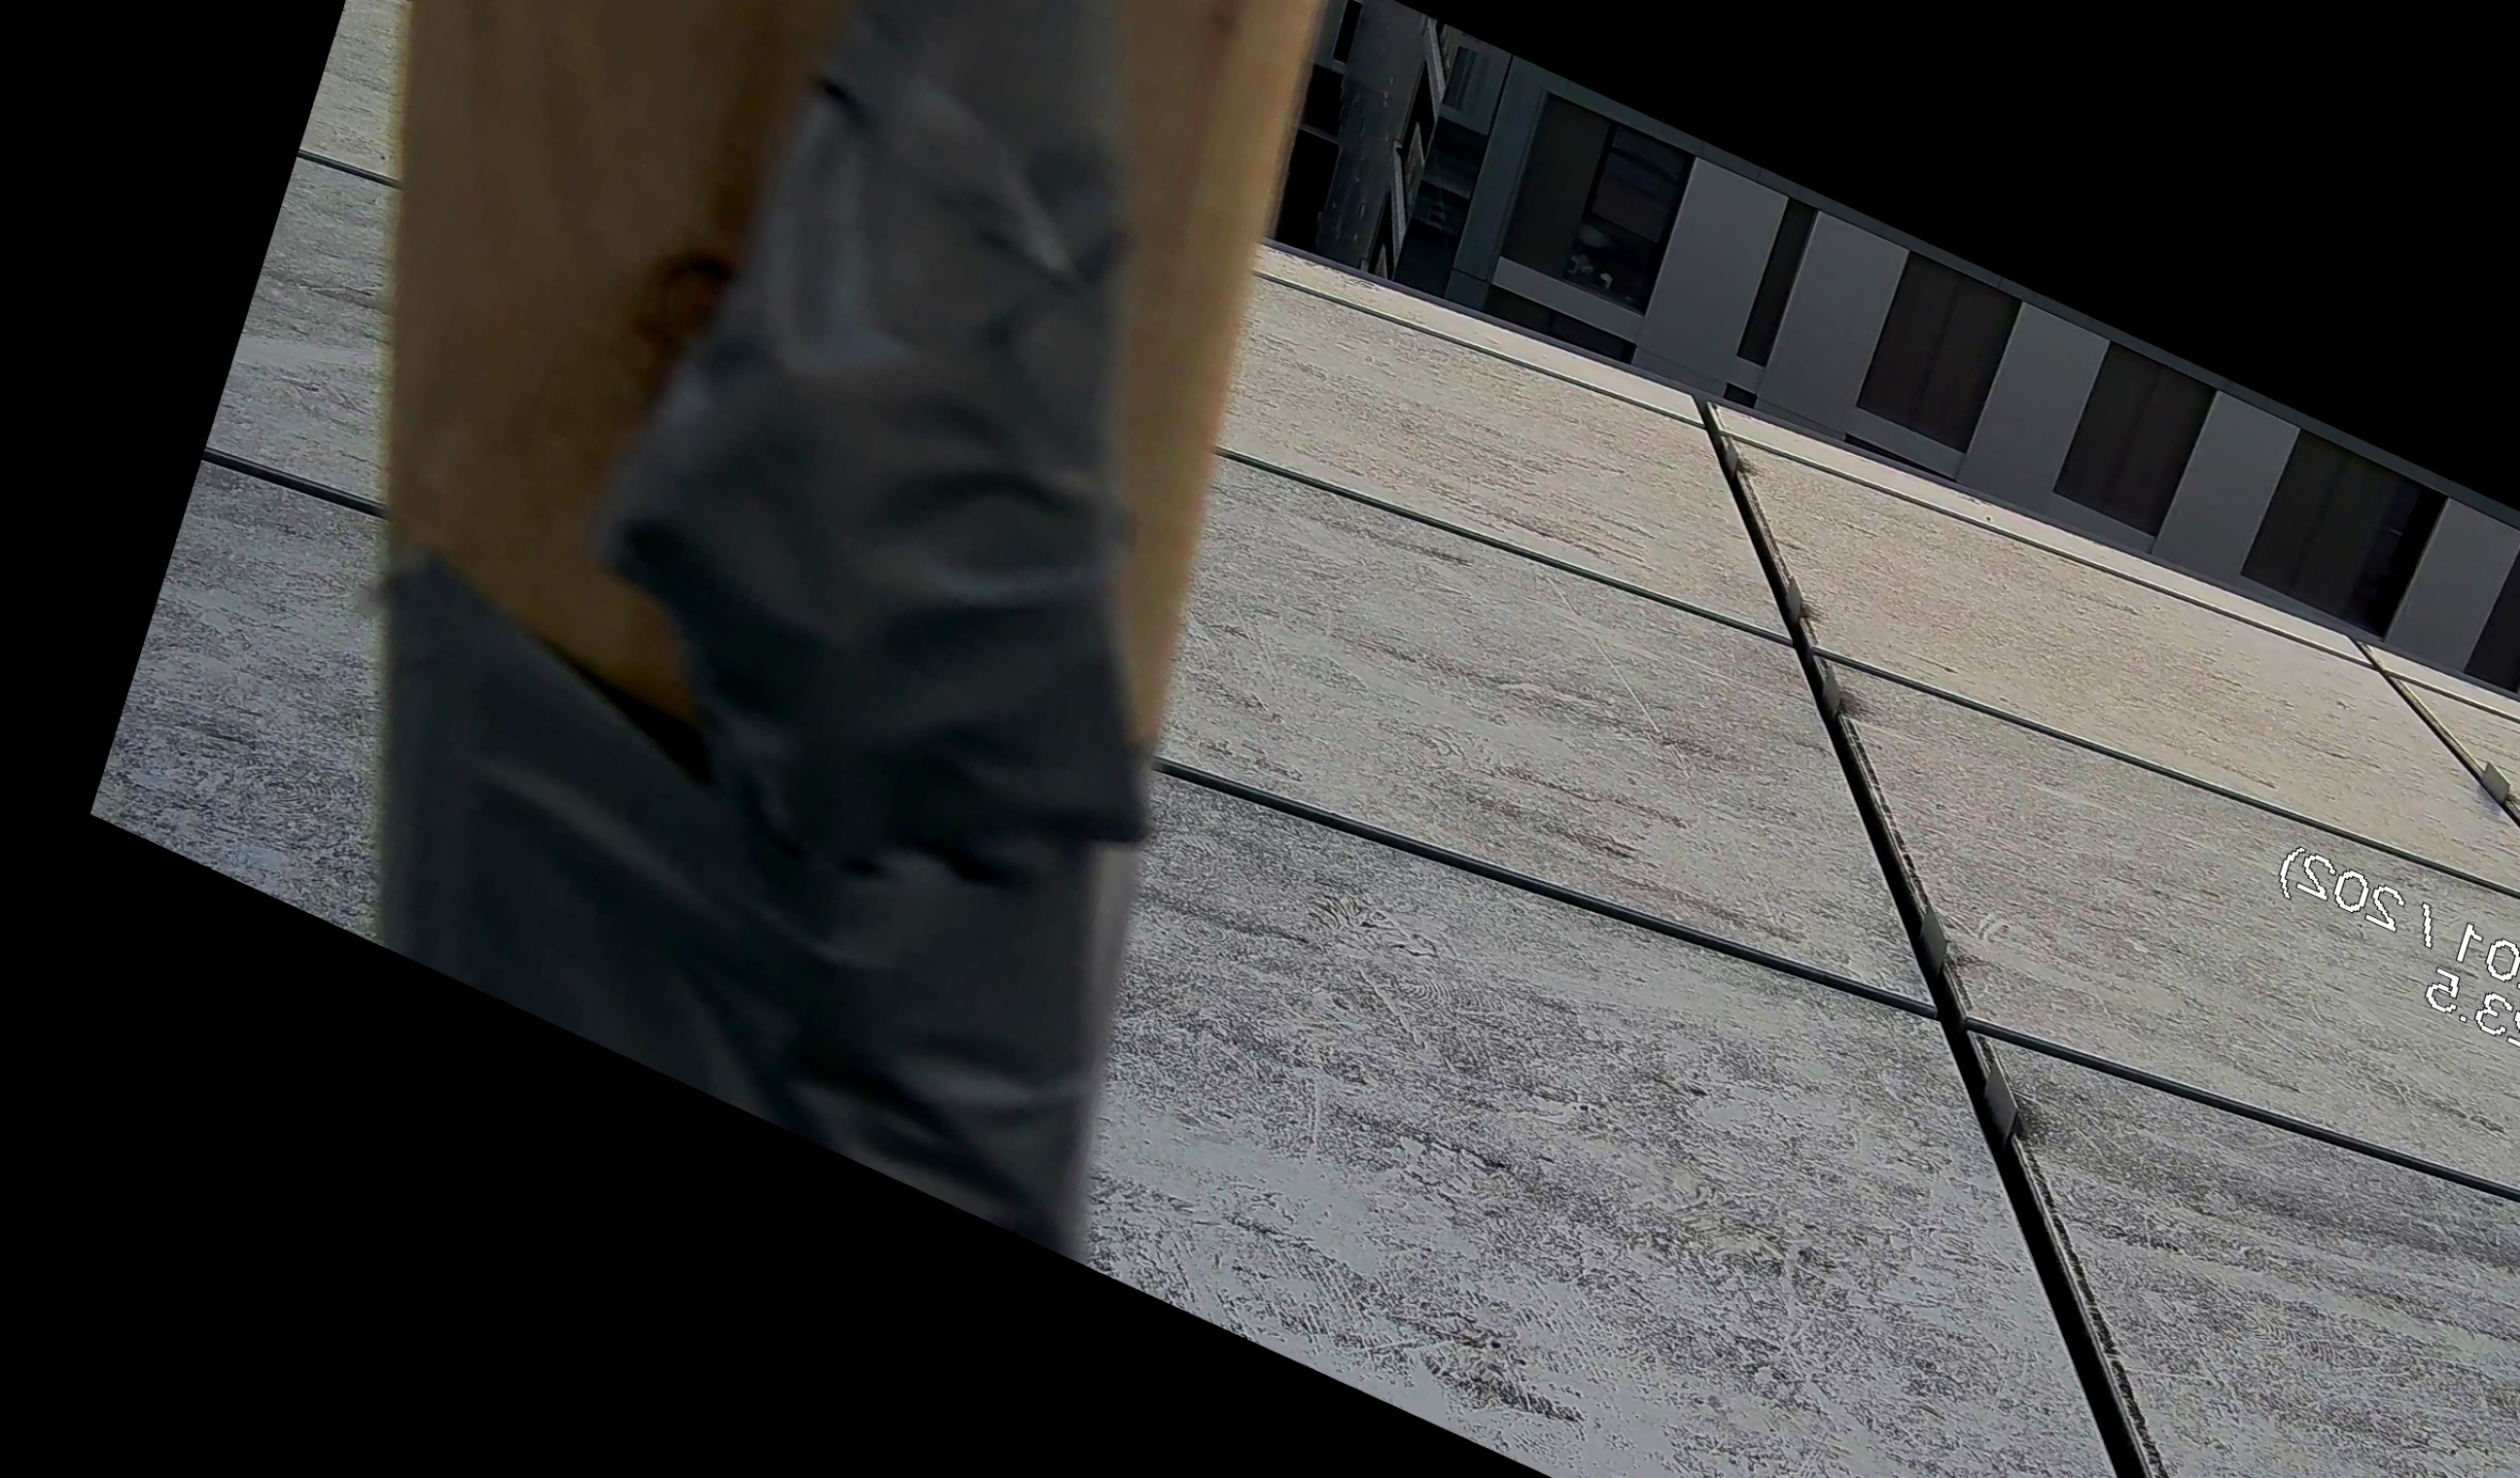Other: (167, 0, 1416, 1186)
